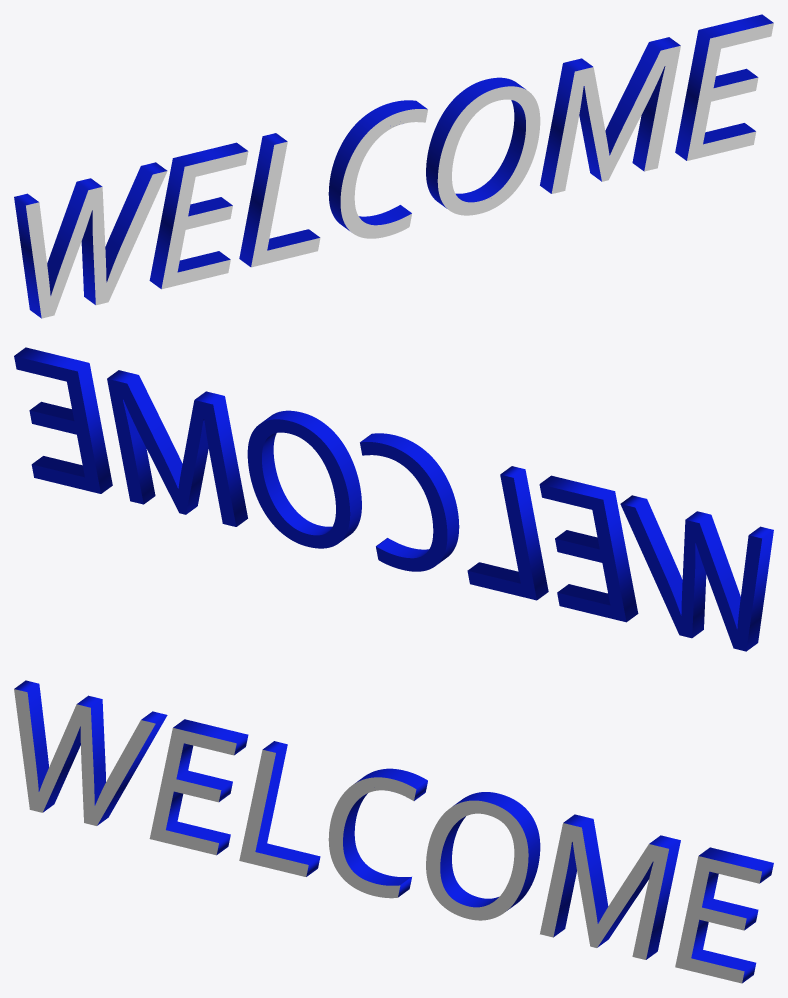
Rendered from Welcome.glb.
The picture shows the model from 3 angles, top to bottom: view 1: azimuth 30°, elevation 25°; view 2: azimuth 150°, elevation 25°; view 3: azimuth 330°, elevation 25°; orthographic projection.
Parts seen in each view (by area): view 1: Text; view 2: Text; view 3: Text.
Part boxes in pixels (<box>): Text: <box>14,14,773,318</box>; Text: <box>14,347,773,651</box>; Text: <box>14,680,773,983</box>.
Bounding box in the file's own units: 3.67 × 0.5689 × 0.1.
